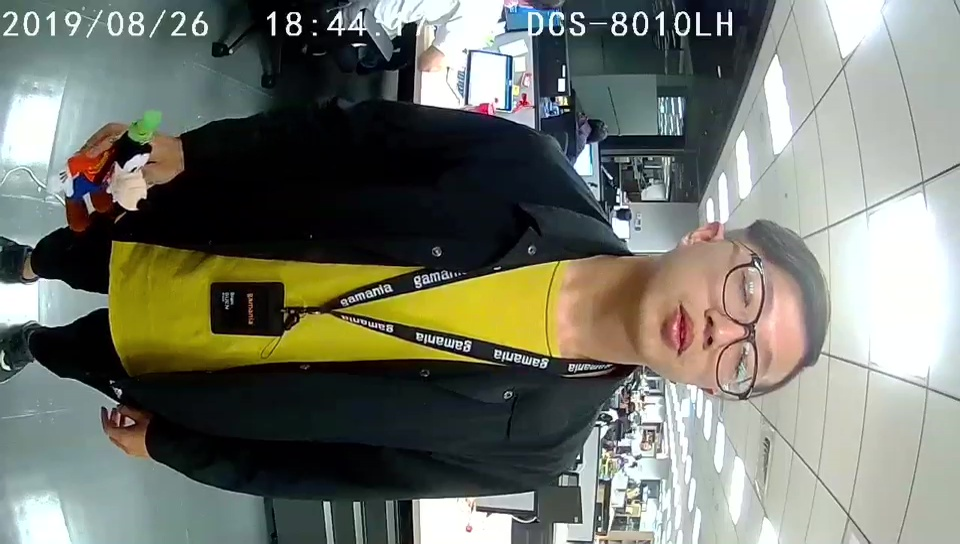goofy: (45, 110, 163, 229)
